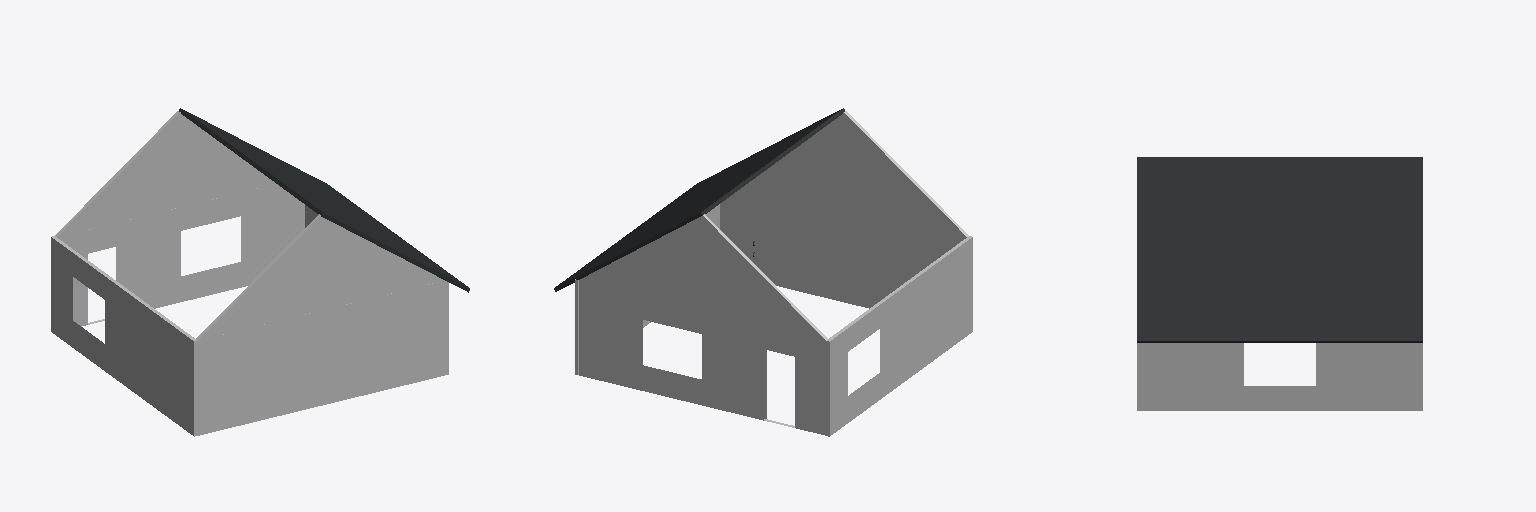
Rendered from prueba2.obj.
3 views of the same model, side by side, from view 1: azimuth 30°, elevation 25°; view 2: azimuth 150°, elevation 25°; view 3: azimuth 270°, elevation 25° (orthographic).
Parts seen in each view (by area): view 1: Cubo.019_Cubo.017; view 2: Cubo.019_Cubo.017; view 3: Cubo.019_Cubo.017.
Boxes of the visible parts, <box> form: Cubo.019_Cubo.017: <box>51,108,469,436</box>; Cubo.019_Cubo.017: <box>554,108,972,436</box>; Cubo.019_Cubo.017: <box>1137,157,1422,410</box>.
Size of the model in its own units: 255 by 165 by 222.